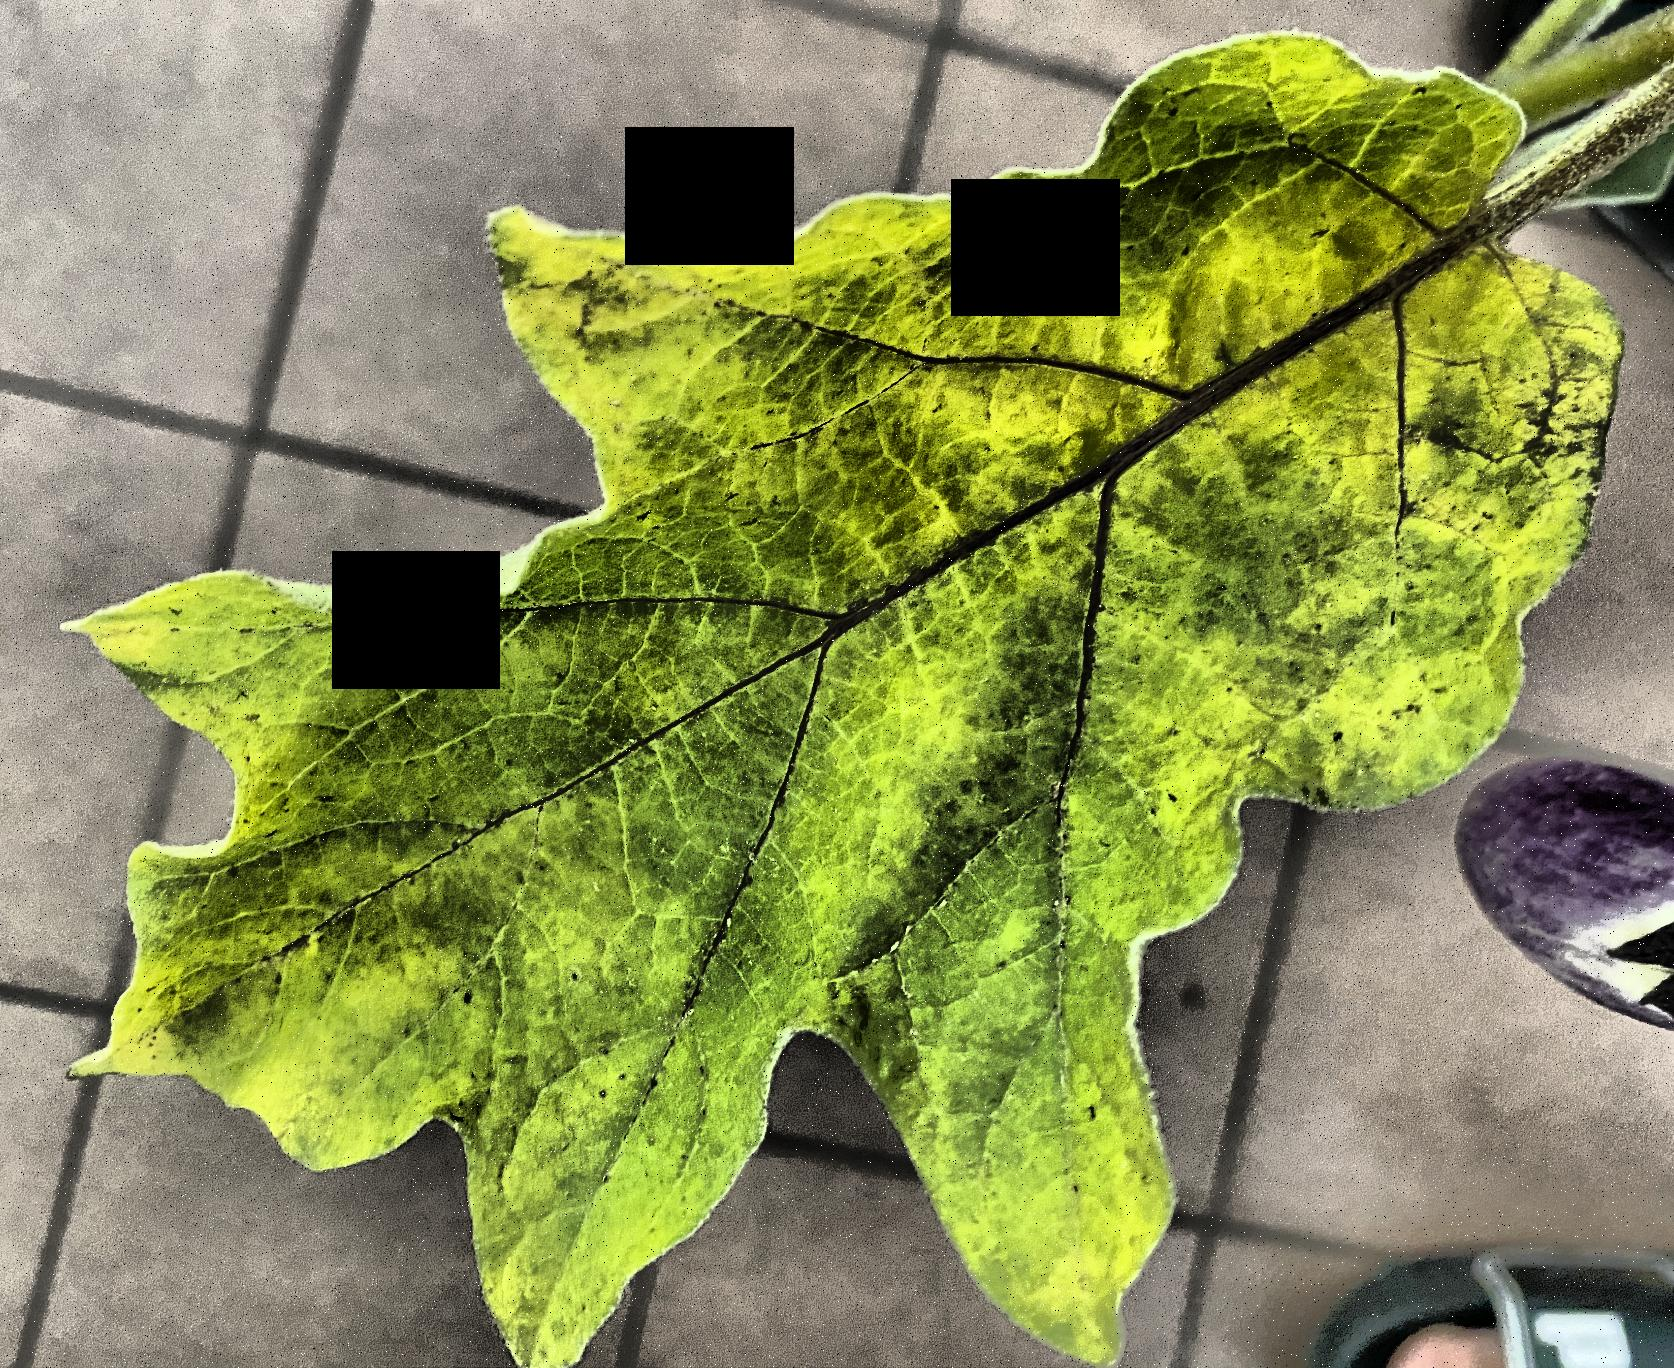Critical Stress: (1, 0, 1674, 1367)
